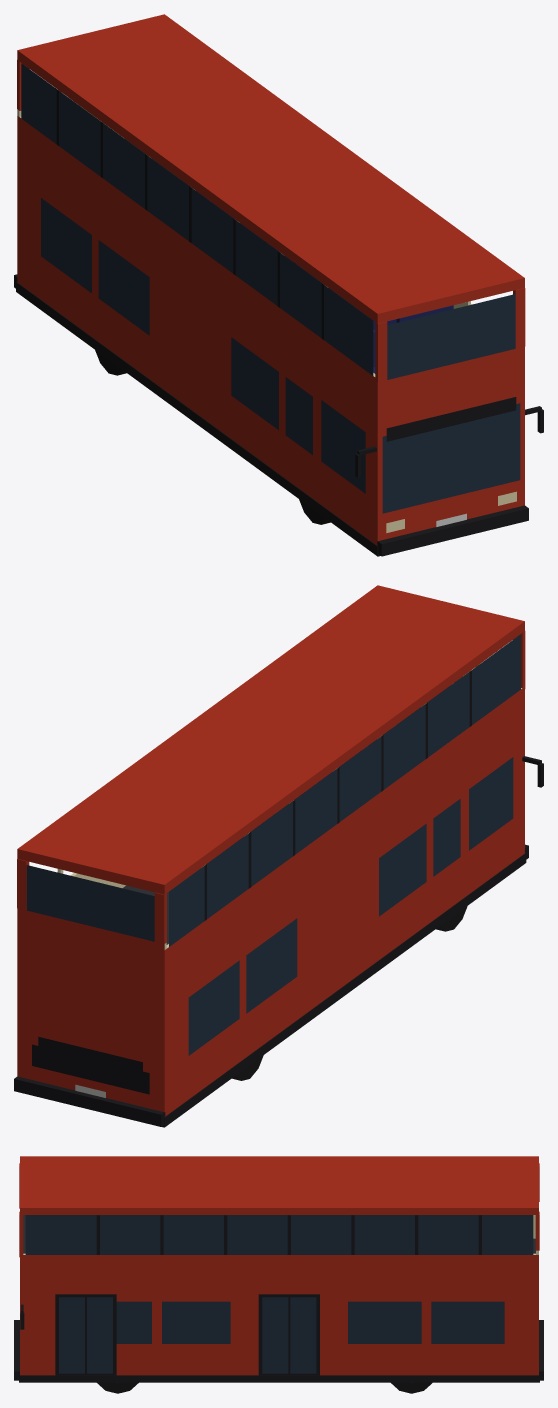
File: veh_london-bus.glb
3 renders of one model, top to bottom at view 1: azimuth 30°, elevation 25°; view 2: azimuth 150°, elevation 25°; view 3: azimuth 270°, elevation 25°, orthographic. The views are drawn at different scales.
Visible parts, largest first — view 1: body; view 2: body; view 3: body.
Boxes of the visible parts, <box> form: body: <box>14,14,543,556</box>; body: <box>14,585,543,1127</box>; body: <box>14,1156,543,1393</box>.
Bounding box in the file's own units: 3.16 × 4.21 × 10.82.
